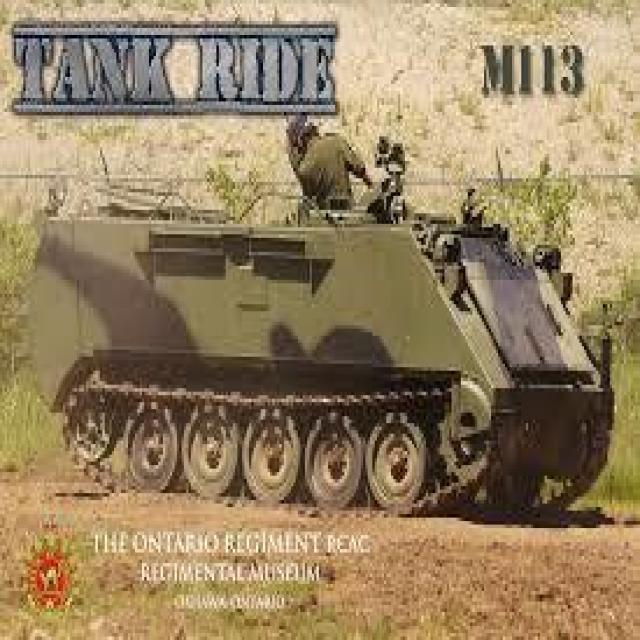MIL_MBT: (28, 170, 617, 523)
